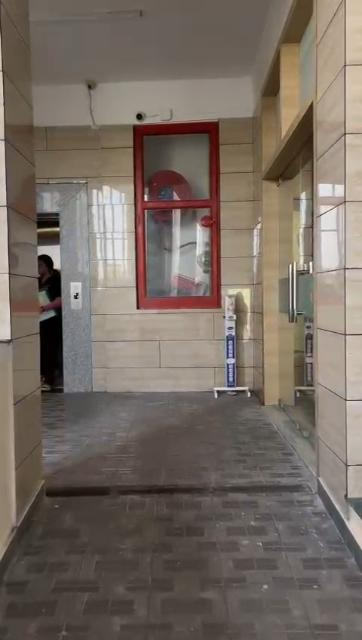door: (286, 184, 308, 402)
floor: (0, 401, 362, 640)
moving-obj: (36, 248, 66, 388)
wall: (312, 0, 362, 472), (0, 5, 32, 522), (93, 188, 139, 386), (222, 120, 264, 284), (142, 311, 214, 387), (35, 130, 133, 178)
